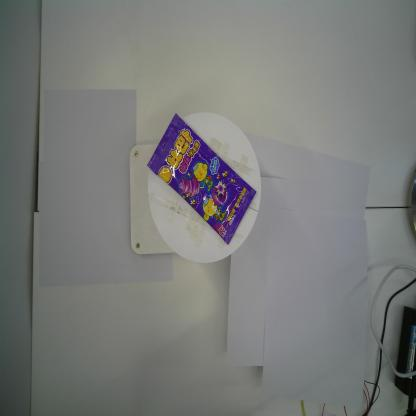Candy: (146, 112, 258, 246)
